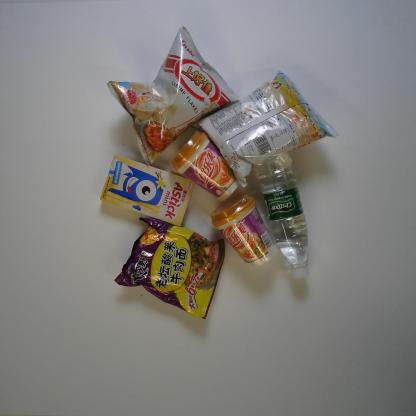Dessert: (99, 154, 195, 226)
Drink: (254, 152, 311, 280)
Instant Drink: (209, 191, 279, 269), (168, 129, 241, 203)
Instant Noodles: (113, 216, 226, 322)
Puffed Food: (105, 25, 240, 169), (189, 69, 341, 190)
